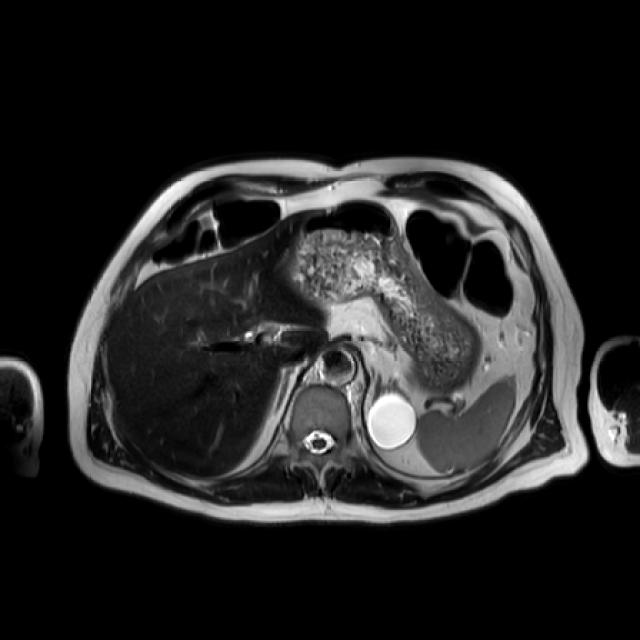sol: (366, 390, 417, 451)
